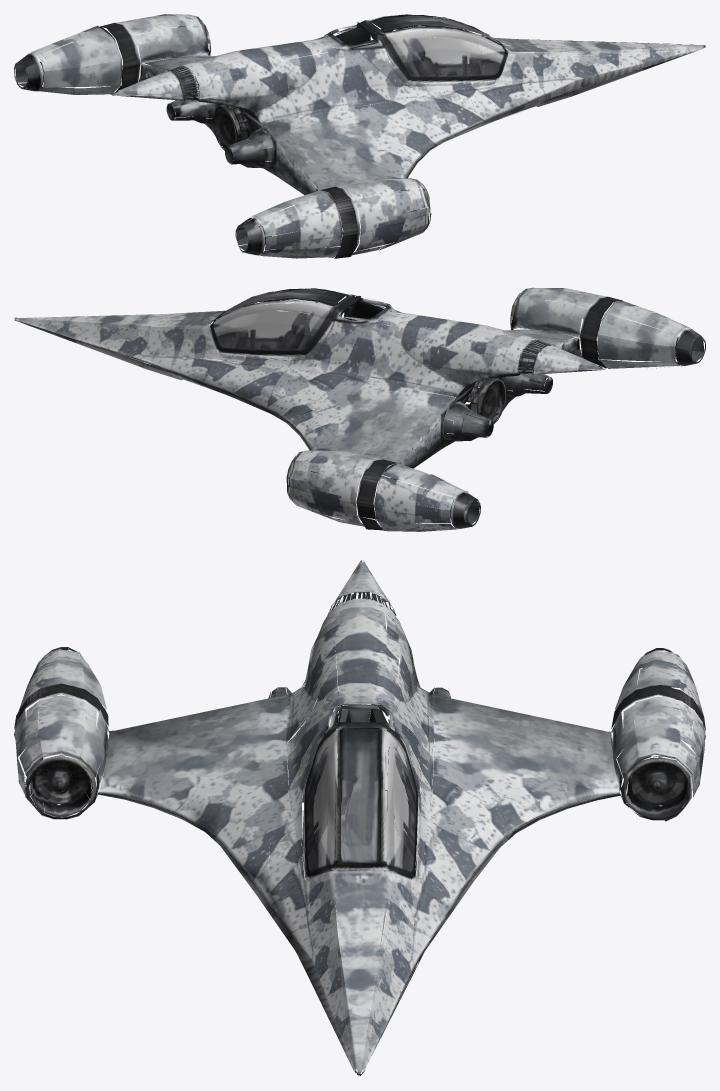
Rendered from fighter.glb.
The picture shows the model from 3 angles, top to bottom: view 1: azimuth 30°, elevation 25°; view 2: azimuth 150°, elevation 25°; view 3: azimuth 270°, elevation 25°; orthographic projection. The views are drawn at different scales.
Visible parts, largest first — view 1: fighter_canopy_closed; view 2: fighter_canopy_closed; view 3: fighter_canopy_closed.
Boxes of the visible parts, bbox=[...] form: fighter_canopy_closed: bbox=[14, 14, 705, 258]; fighter_canopy_closed: bbox=[14, 287, 705, 531]; fighter_canopy_closed: bbox=[14, 560, 705, 1076].
Bounding box in the file's own units: 1 × 0.1971 × 0.7554.
1 material, 1 textured.
